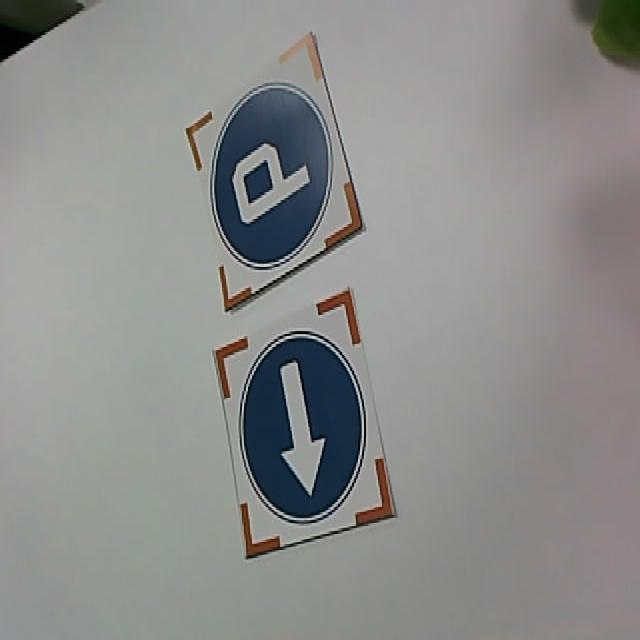parking: (190, 29, 361, 305)
straight: (214, 292, 398, 562)
